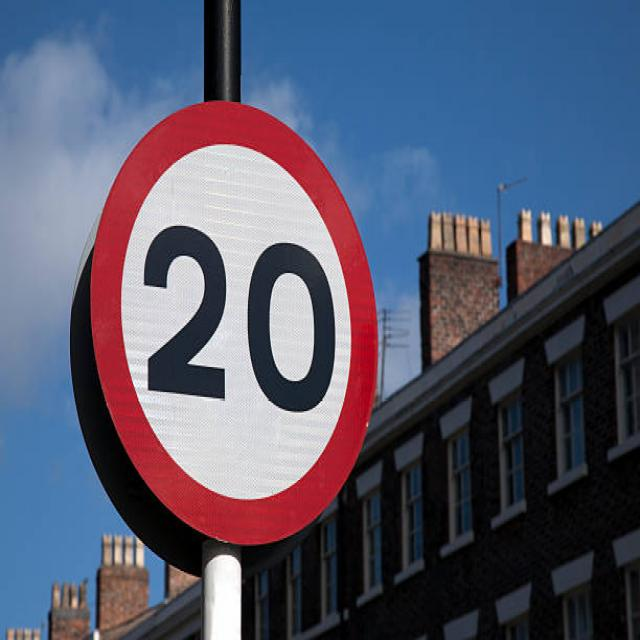speed_limit_20: (81, 82, 382, 550)
